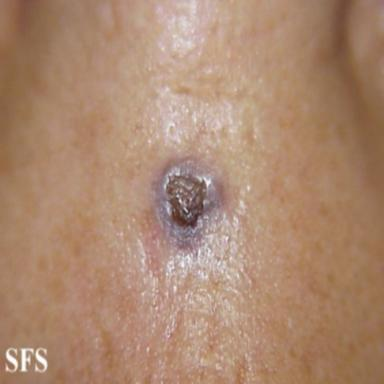basal-cell-carcinoma: (155, 158, 223, 249)
